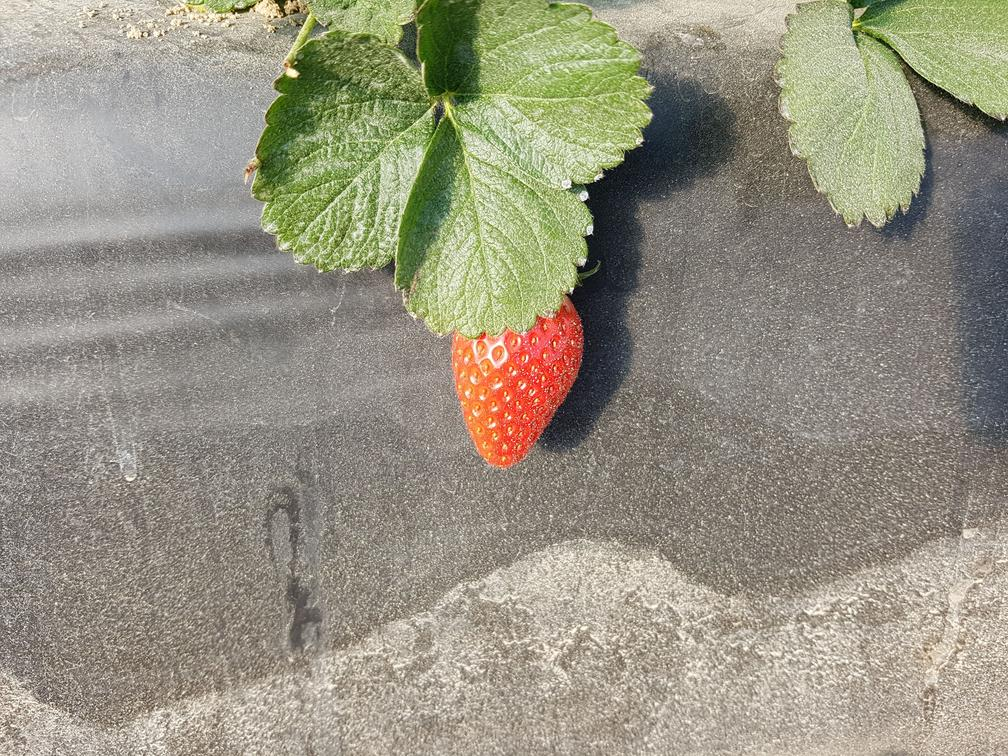Ripe: (452, 323, 588, 471)
